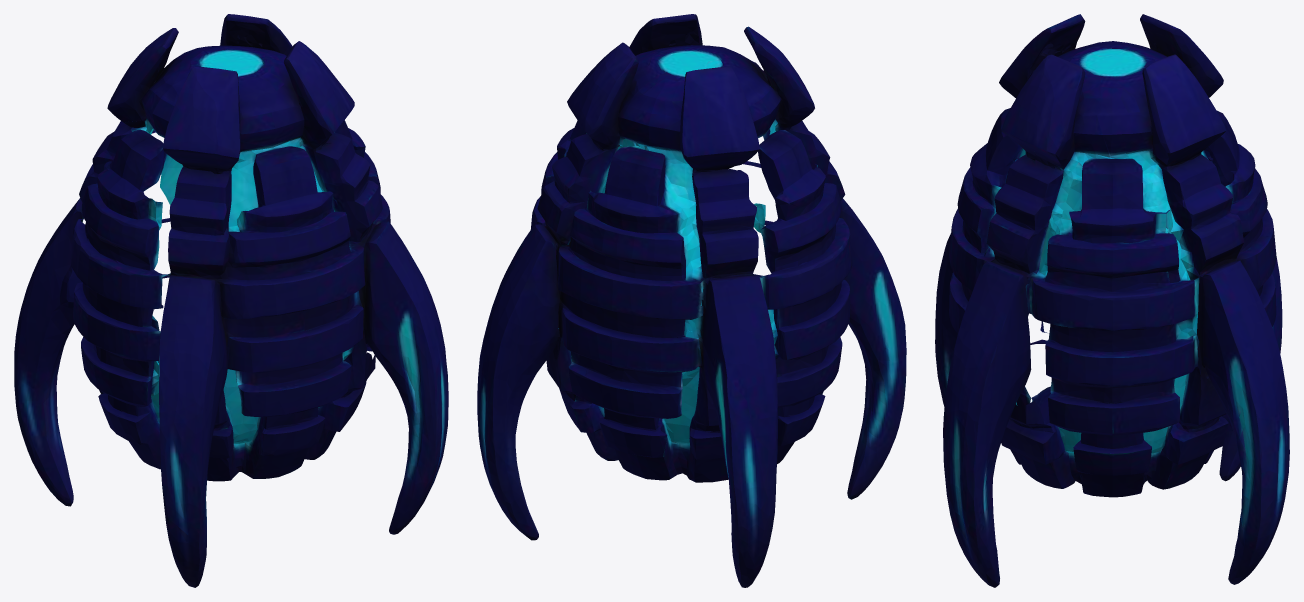
Rendered from plasma.glb.
3 views of the same model, side by side, from view 1: azimuth 30°, elevation 25°; view 2: azimuth 150°, elevation 25°; view 3: azimuth 270°, elevation 25° (orthographic). The views are drawn at different scales.
Visible parts, largest first — view 1: geometry_0; view 2: geometry_0; view 3: geometry_0.
Boxes of the visible parts, x1=… form: geometry_0: x1=14, y1=14, x2=448, y2=587; geometry_0: x1=477, y1=14, x2=906, y2=587; geometry_0: x1=935, y1=14, x2=1289, y2=587.
Bounding box in the file's own units: 0.661 × 1 × 0.6504.
1 material, 1 textured.
